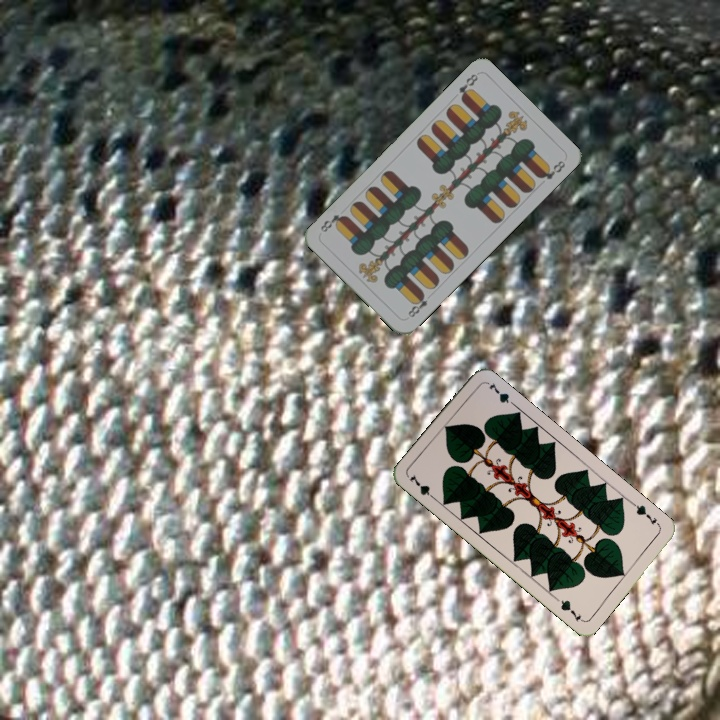E8: (454, 70, 481, 103), (404, 289, 430, 320)
G7: (405, 470, 439, 503), (629, 499, 660, 528)
